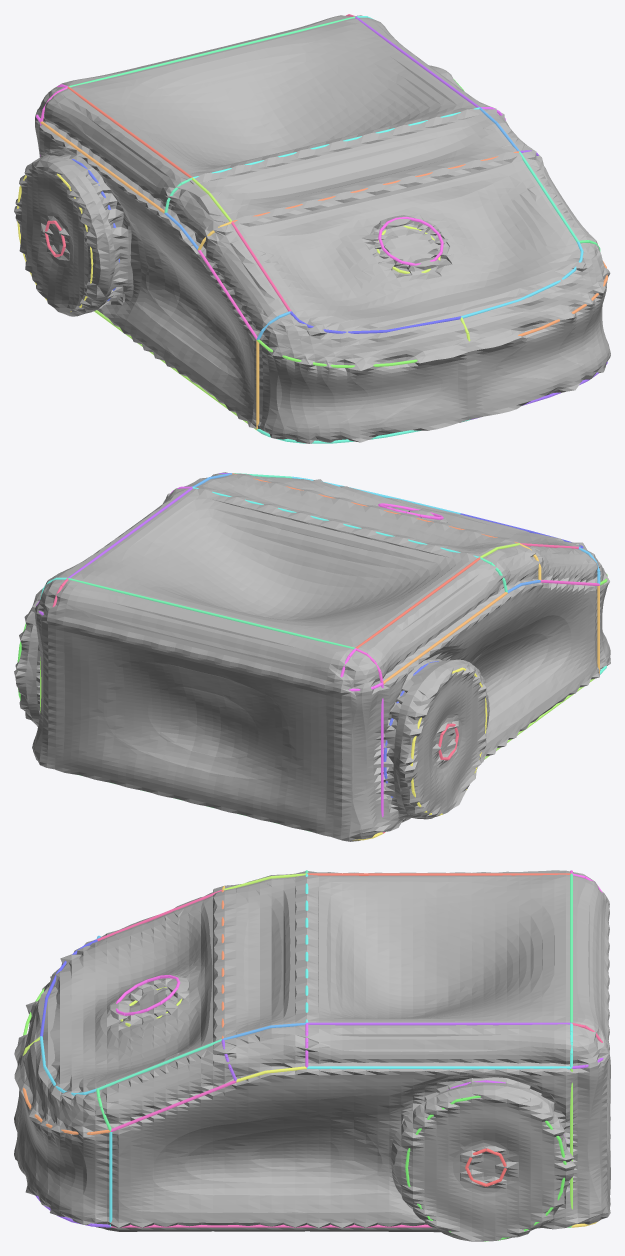
The model's file is onshape_vacuum.gltf.
The picture shows the model from 3 angles, top to bottom: view 1: azimuth 30°, elevation 25°; view 2: azimuth 150°, elevation 25°; view 3: azimuth 270°, elevation 25°; orthographic projection. The views are drawn at different scales.
Size of the model in its own units: 0.6297 by 0.296 by 0.7608.
